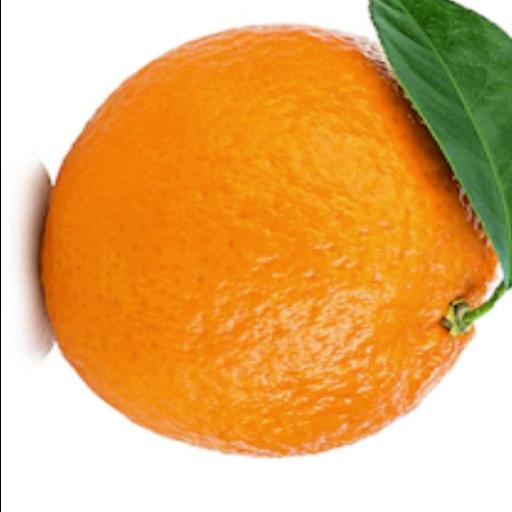orange: (40, 26, 495, 456)
